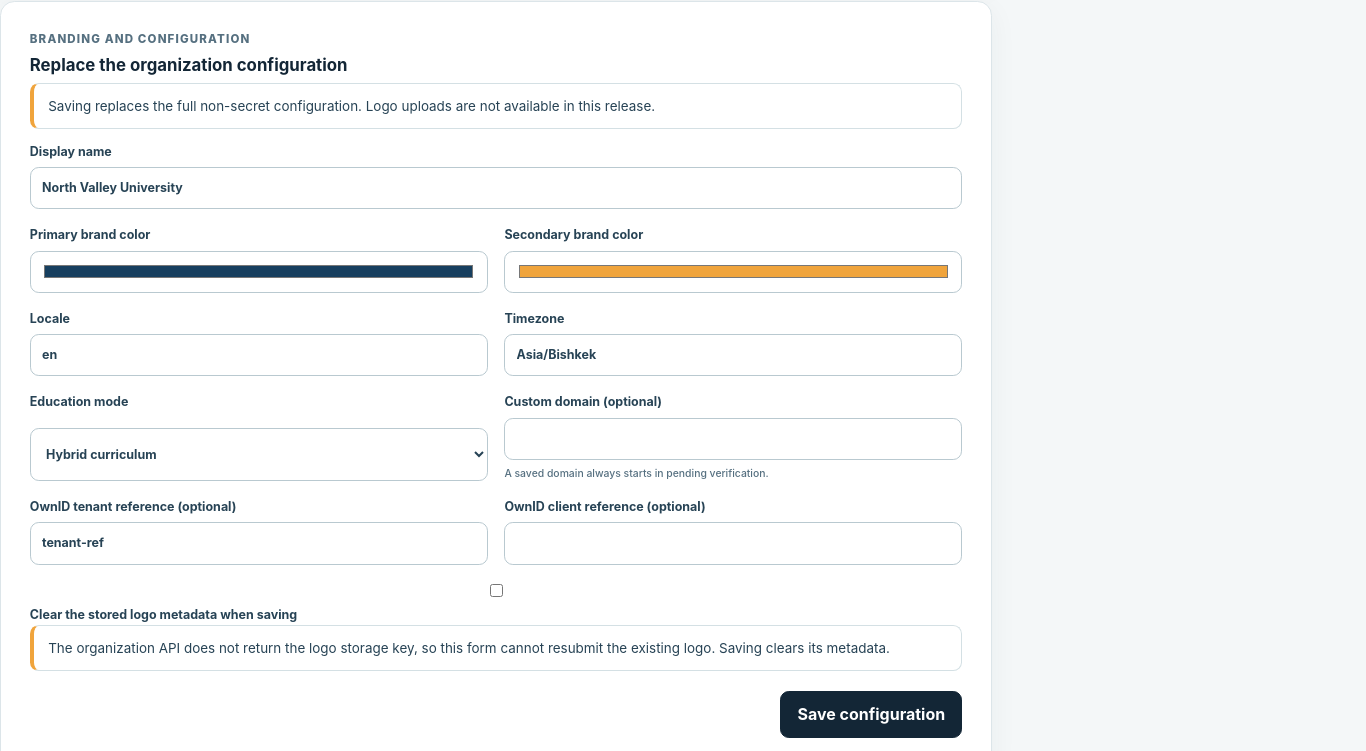
Test: OrganizationBrandingForm › requires explicit confirmation before clearing stored logo metadata
The width and height of the screenshot is (1366, 751).
(page scrolled)
Click the button "Save configuration" at [871, 714], box [780, 691, 962, 738]
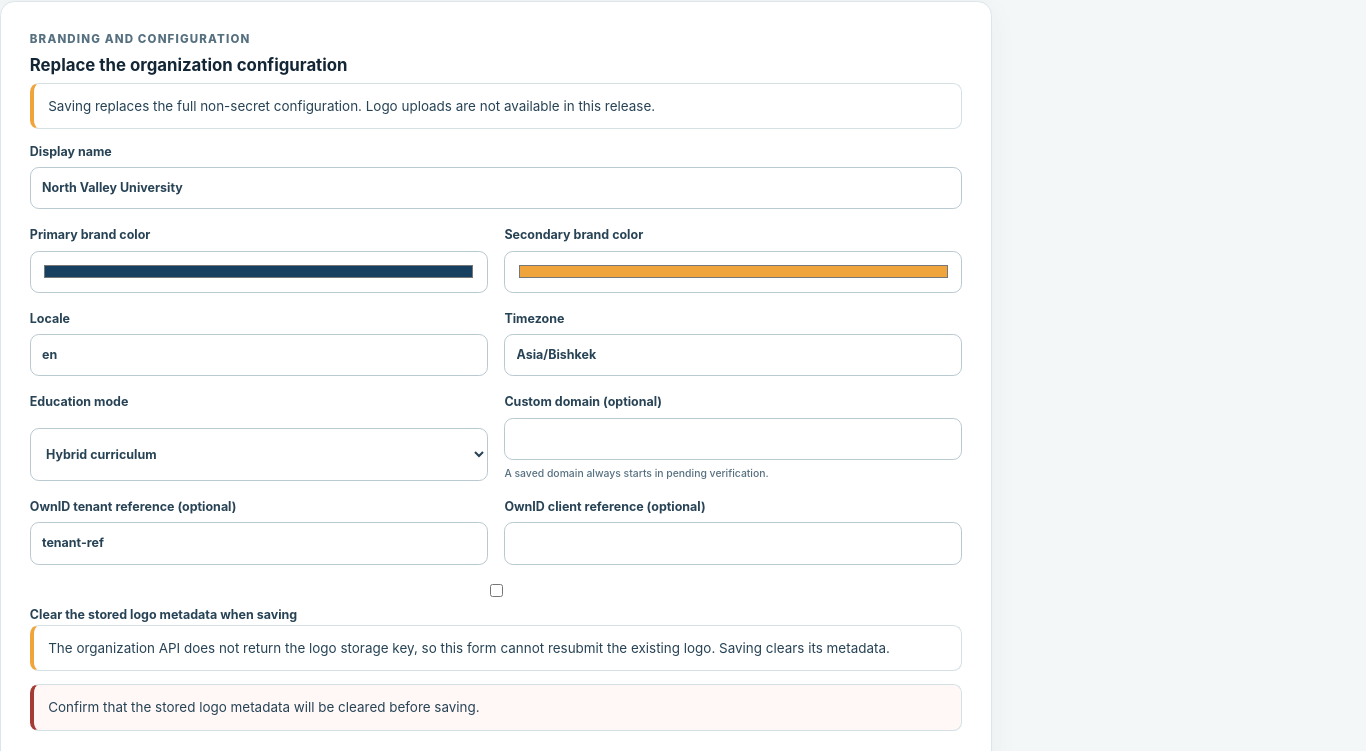
Check: the message reads "Confirm that the stored logo metadata will be cleared before saving.", box [48, 699, 480, 715]
